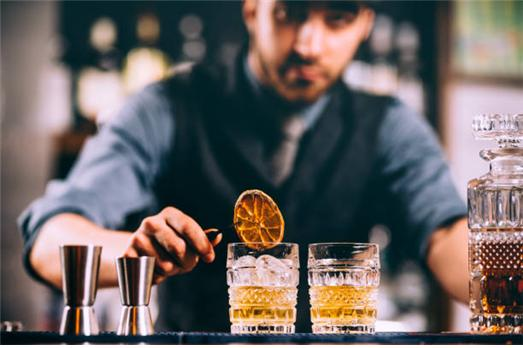alcohol: (227, 242, 300, 333), (309, 244, 380, 332)
